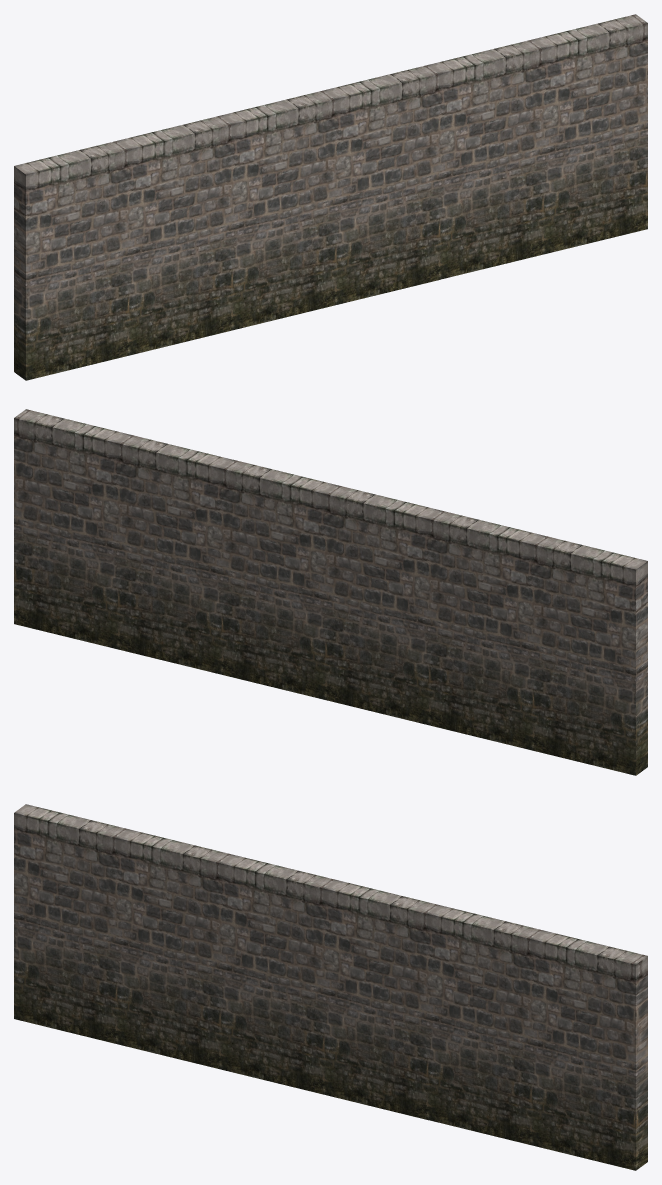
The model's file is TallWallStone_60.fbx.
3 views of the same model, one above another, from view 1: azimuth 30°, elevation 25°; view 2: azimuth 150°, elevation 25°; view 3: azimuth 330°, elevation 25° (orthographic).
Parts seen in each view (by area): view 1: lod_high; view 2: lod_high; view 3: lod_high.
Part boxes in pixels (box(x1,y1,x2,y2)): lod_high: box(14, 14, 647, 380); lod_high: box(14, 409, 647, 775); lod_high: box(14, 804, 647, 1170).
Bounding box in the file's own units: 6001 × 1900 × 202.
1 material, 1 textured.
